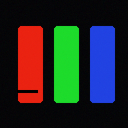3 line_h: (17, 90, 37, 92)
